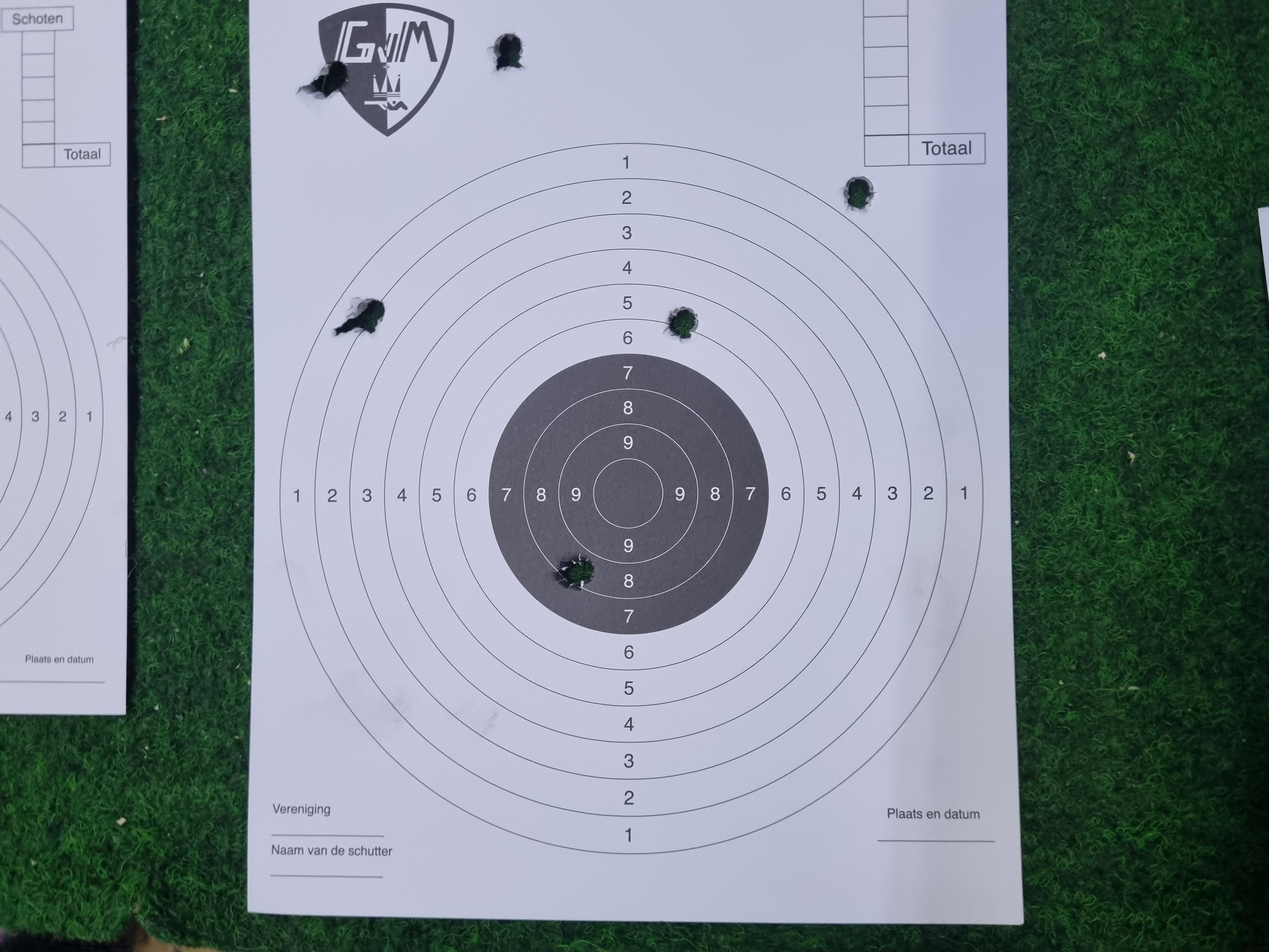hole: (819, 251, 874, 290), (1136, 221, 1189, 261), (482, 414, 530, 447), (986, 631, 1036, 658), (1176, 368, 1226, 395), (814, 498, 861, 524)
